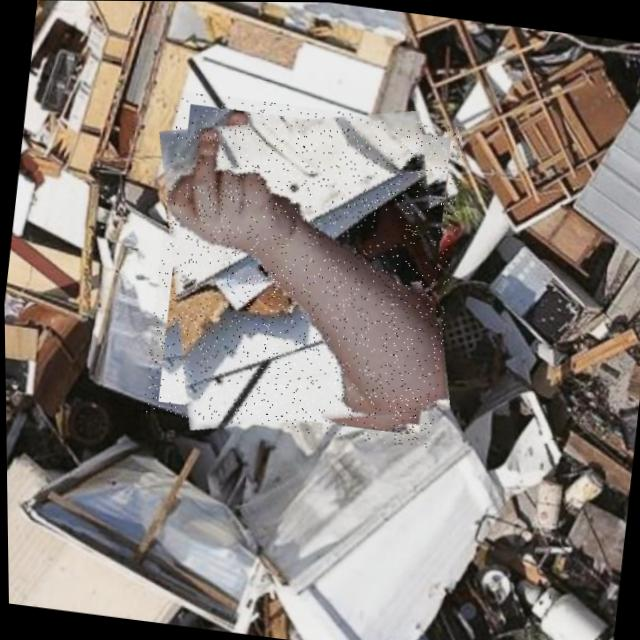Person in Rubble: (138, 88, 469, 447)
